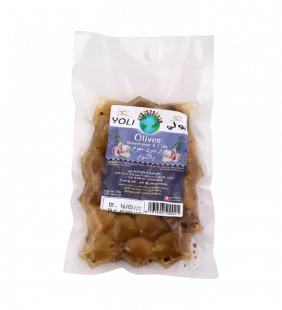YOLI: (52, 20, 229, 285)
